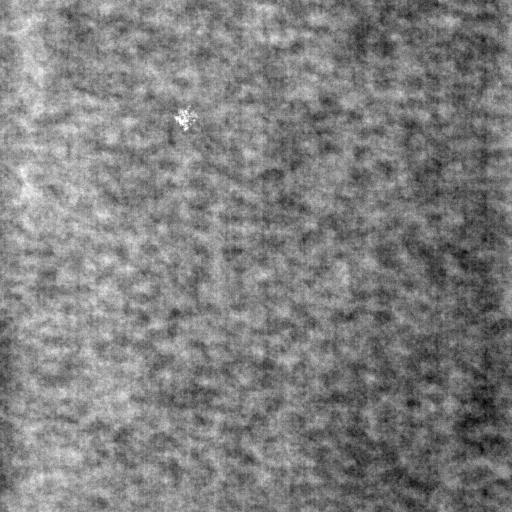DefectTypeA: (174, 103, 198, 132)
